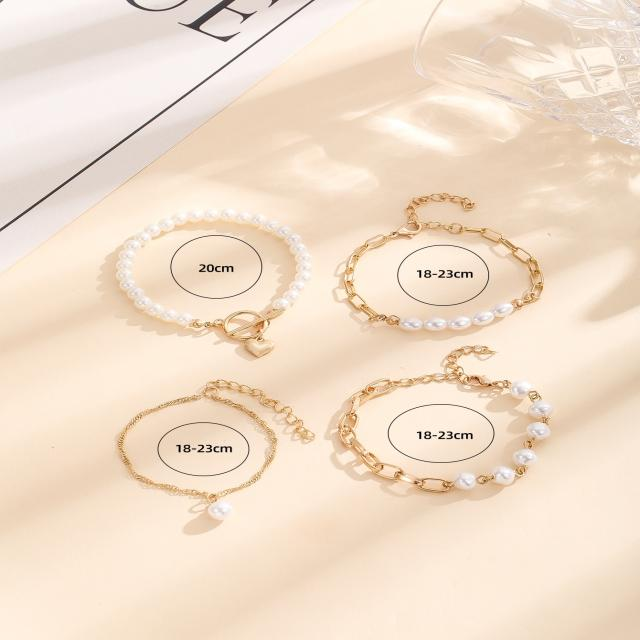bracelet: (65, 158, 328, 375), (42, 360, 307, 550), (322, 154, 567, 350), (325, 346, 600, 510)
